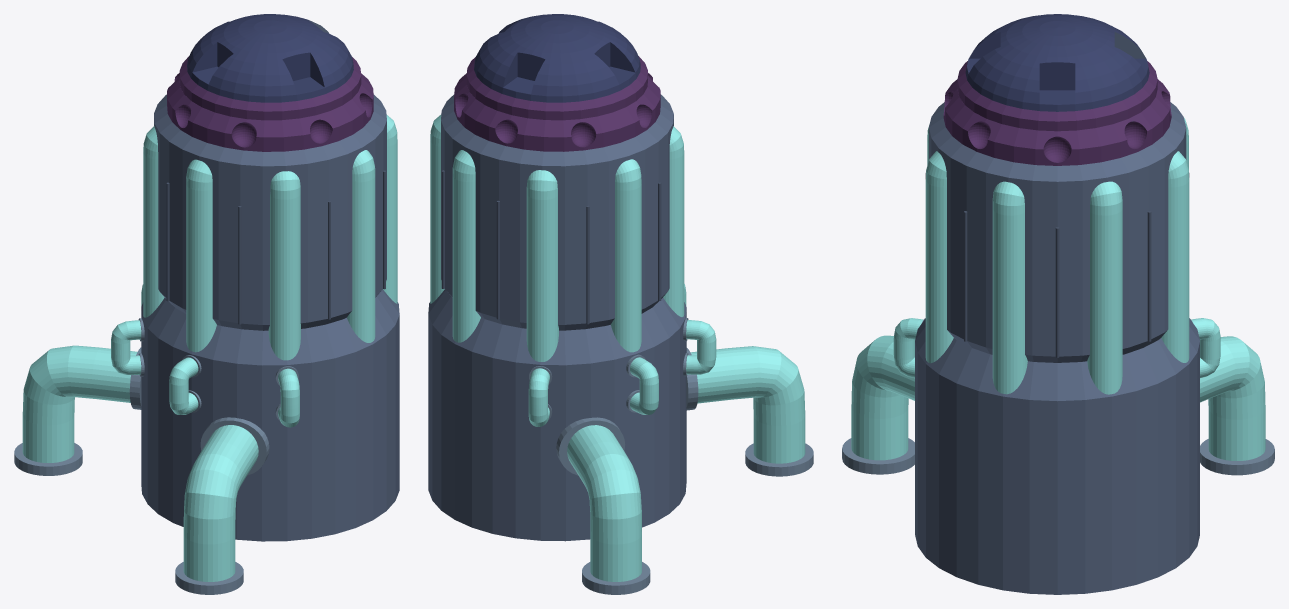
File: Reactor-reactor.glb
3 views of the same model, side by side, from view 1: azimuth 30°, elevation 25°; view 2: azimuth 150°, elevation 25°; view 3: azimuth 270°, elevation 25° (orthographic). The views are drawn at different scales.
Parts seen in each view (by area): view 1: Sphere; view 2: Sphere; view 3: Sphere.
Part boxes in pixels (left/top/right/bottom): Sphere: left=14, top=14, right=399, bottom=594; Sphere: left=428, top=14, right=813, bottom=594; Sphere: left=842, top=14, right=1274, bottom=594.
Size of the model in its own units: 10.11 by 15.7 by 12.14.
1 material, 1 textured.
